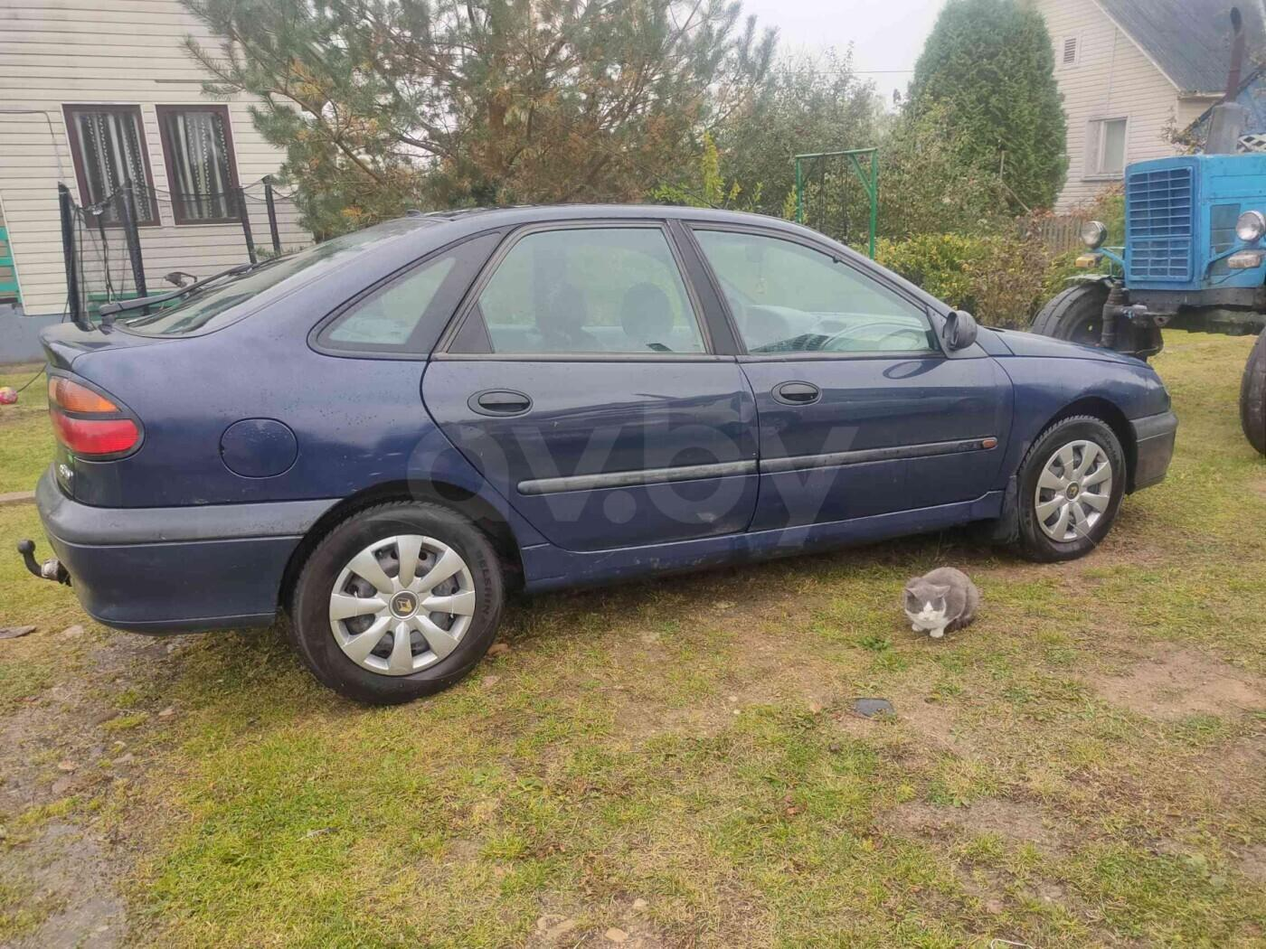Laguna_1998-2001: (19, 196, 1176, 715)
